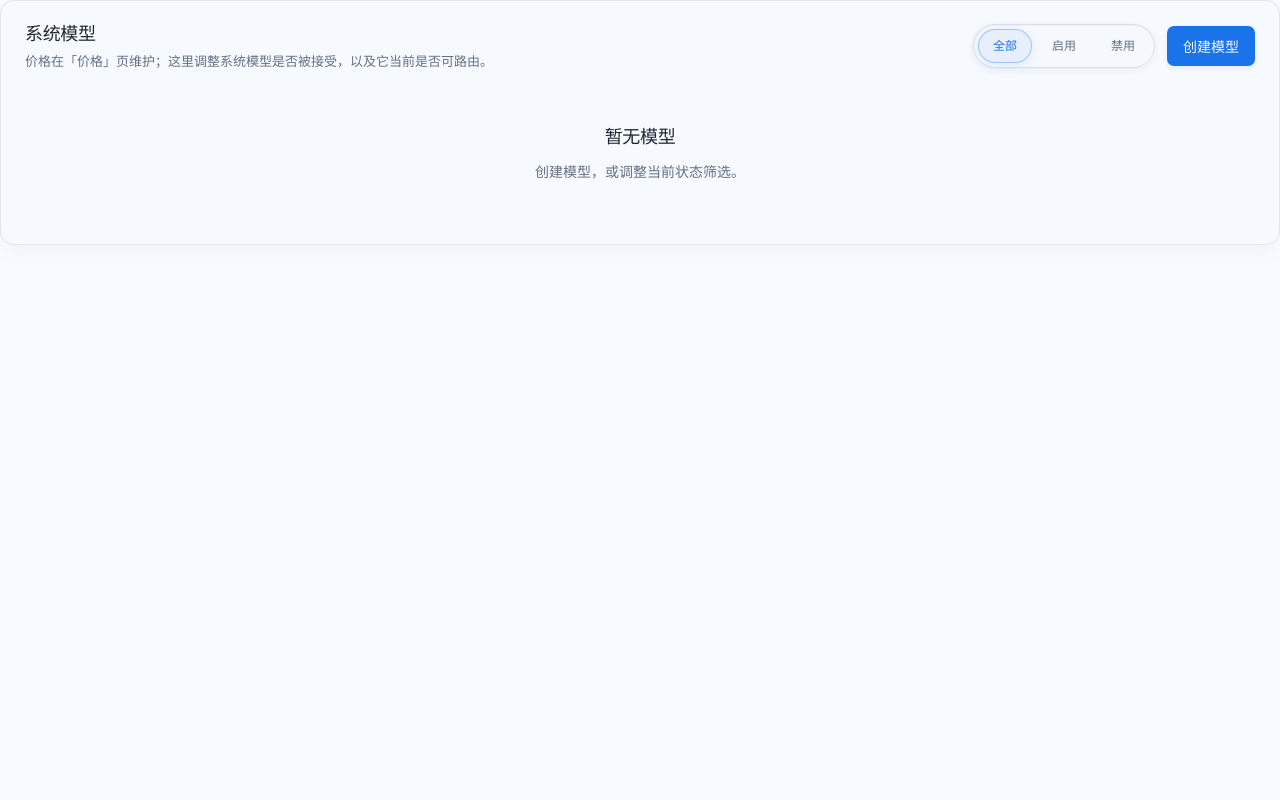
Test: models management › creates a real model with null unknown and zero free prices
Expected: the heading "暂无模型" is shown, [605, 126, 675, 147]
Click the button "创建模型" at {"x": 1211, "y": 46}, box [1167, 26, 1255, 66]
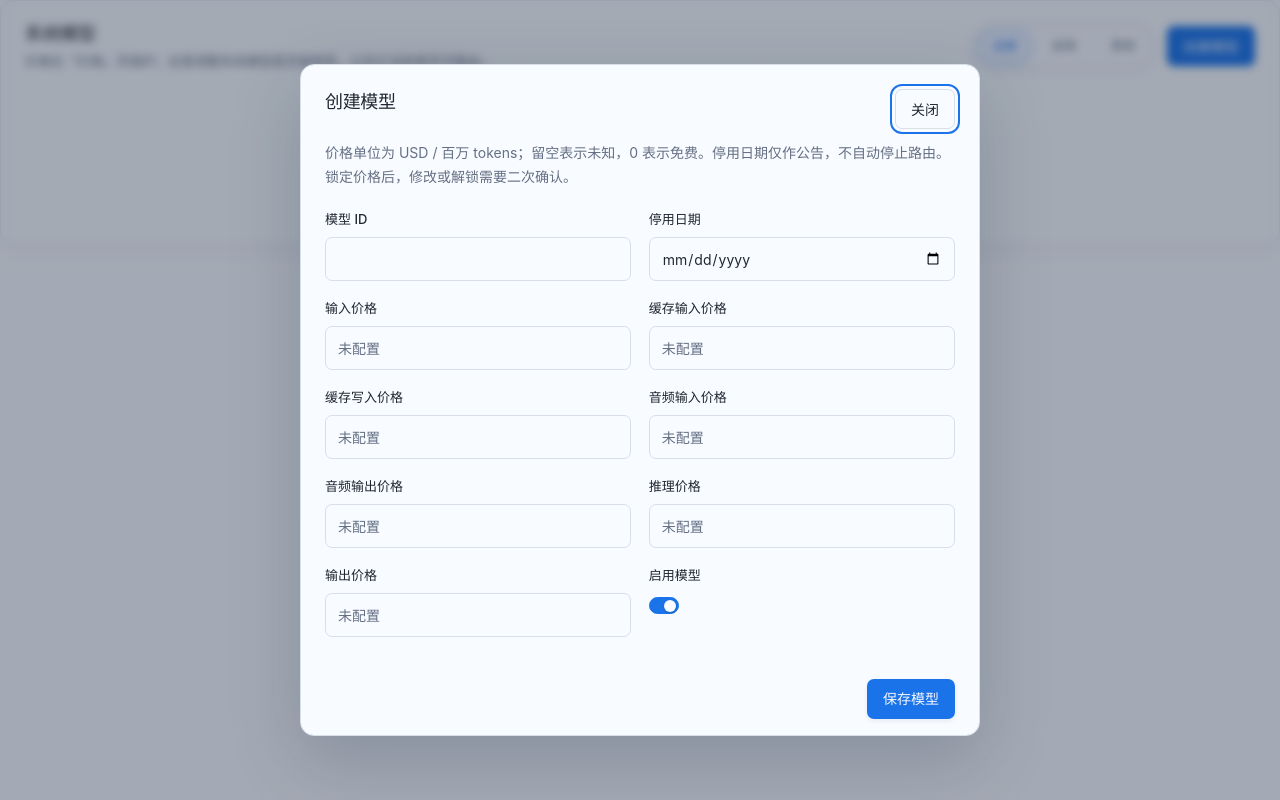
Type "new-model" into the field labelled "模型 ID" at {"x": 478, "y": 259}, box [325, 237, 631, 281]
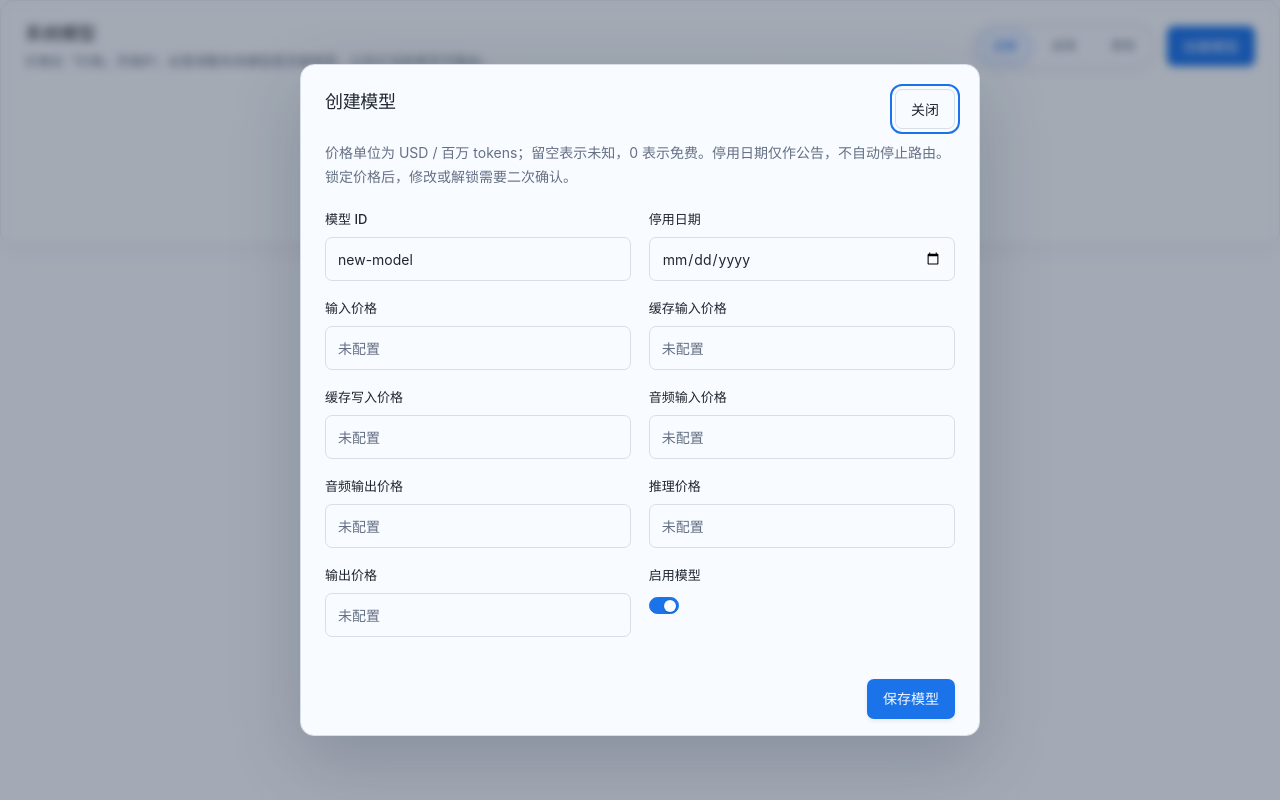
Type "0" into the number field labelled "缓存输入价格" at {"x": 802, "y": 348}, box [649, 326, 955, 370]
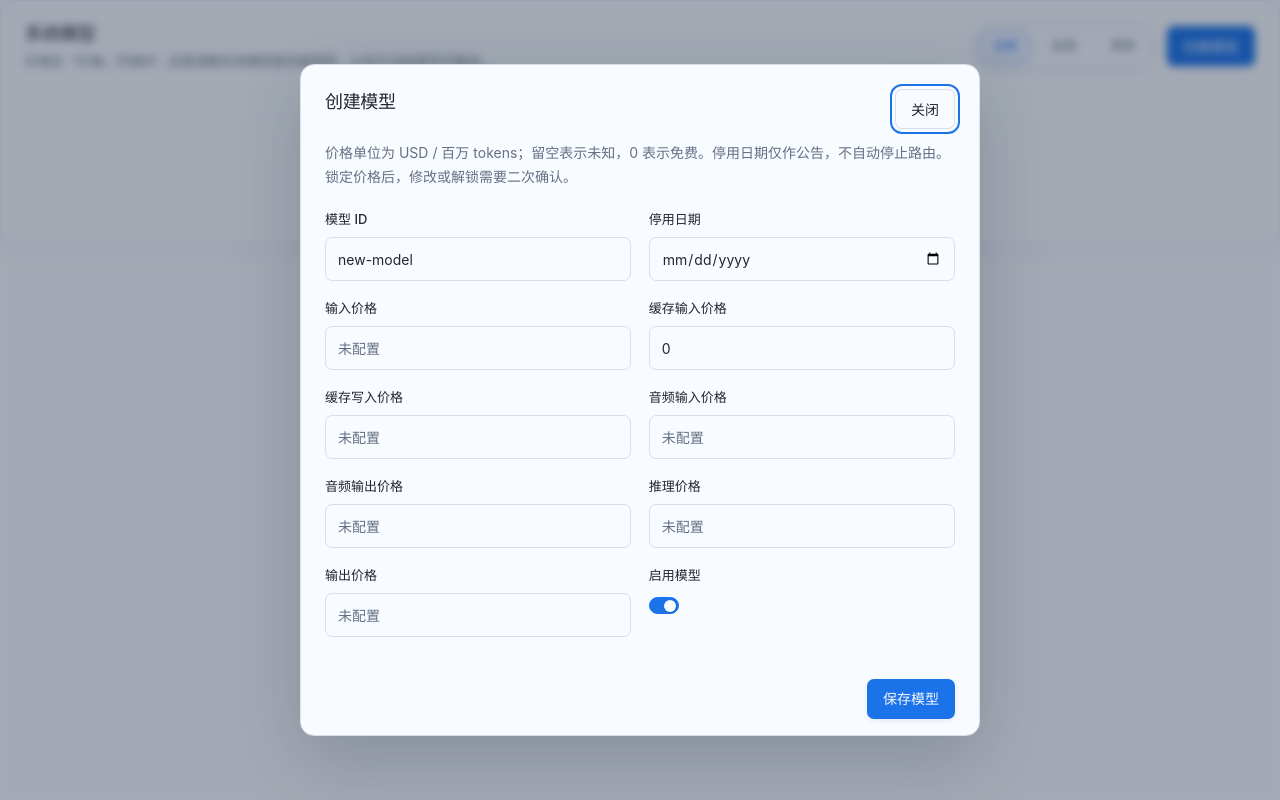
Type "2027-01-01" into the date field labelled "停用日期" at {"x": 802, "y": 259}, box [649, 237, 955, 281]
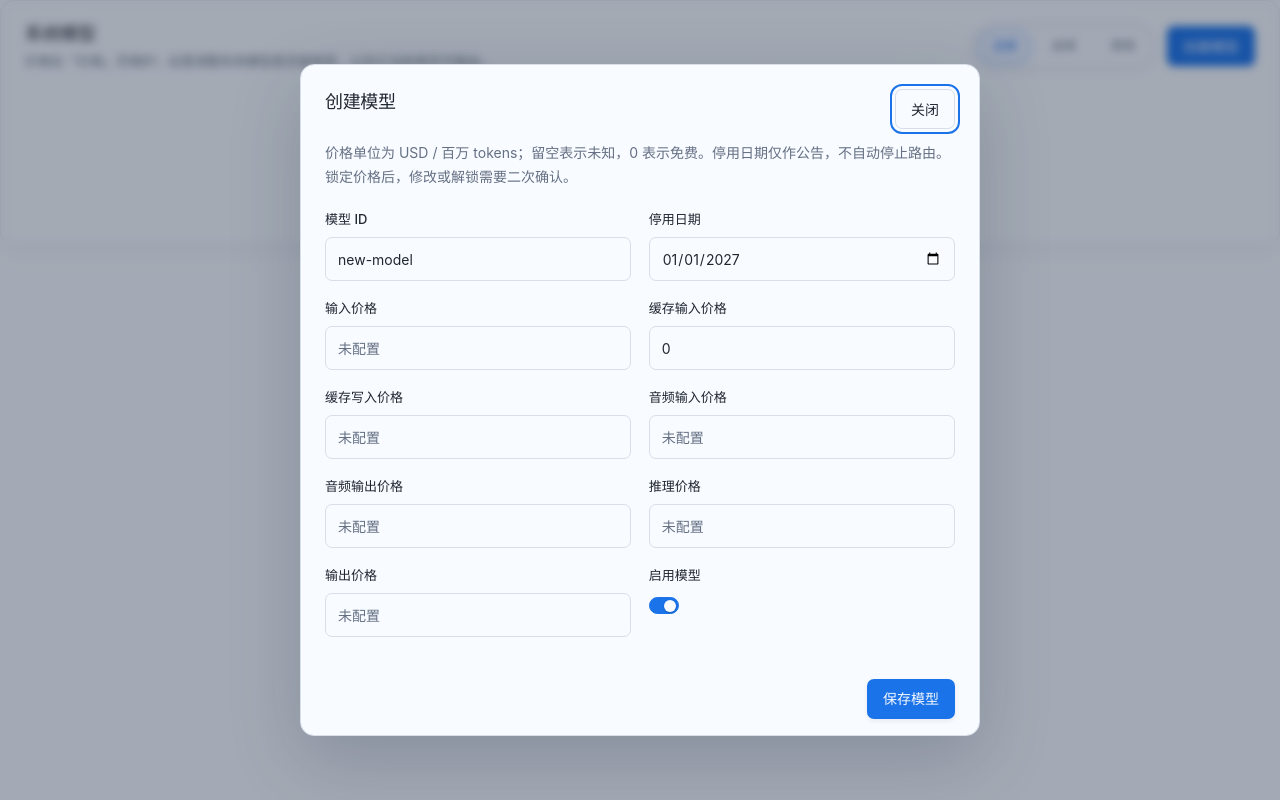
Click the button "保存模型" at {"x": 911, "y": 699}, box [867, 679, 955, 719]
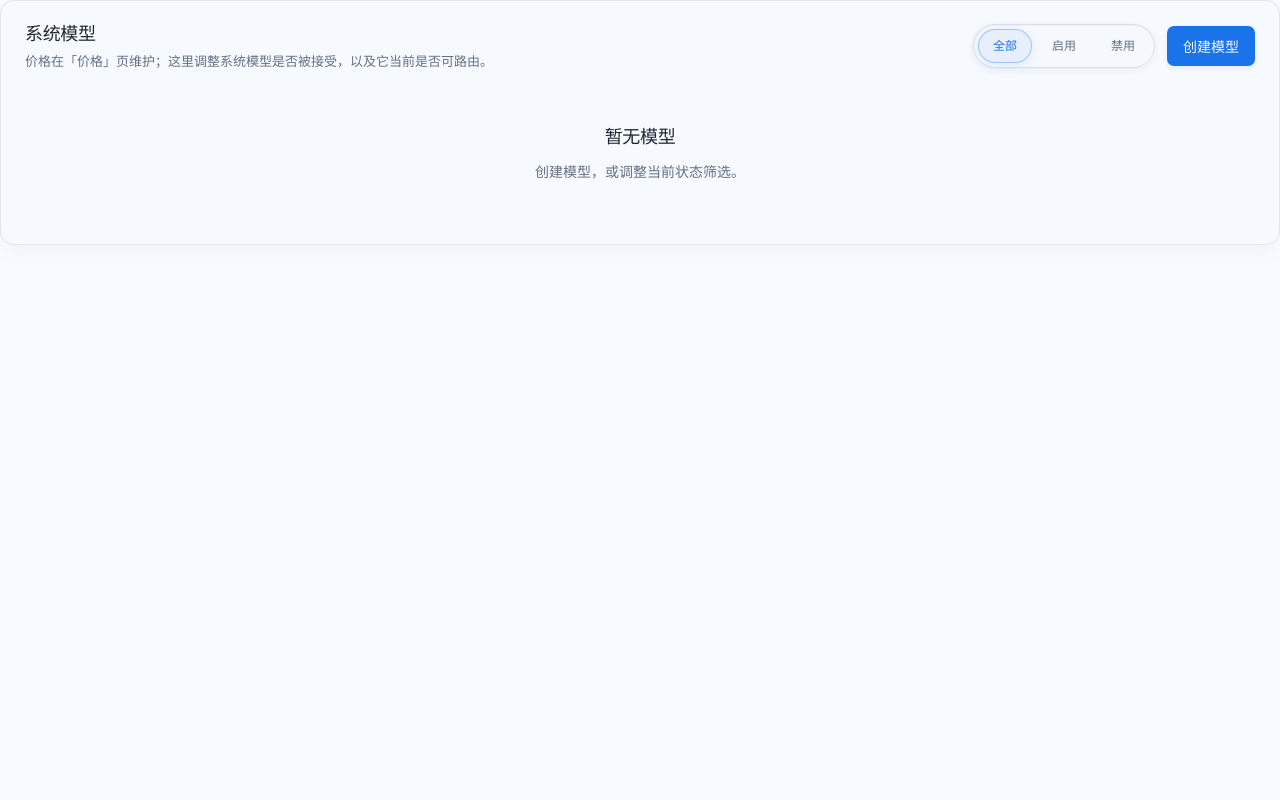
Expected: the dialog is gone
